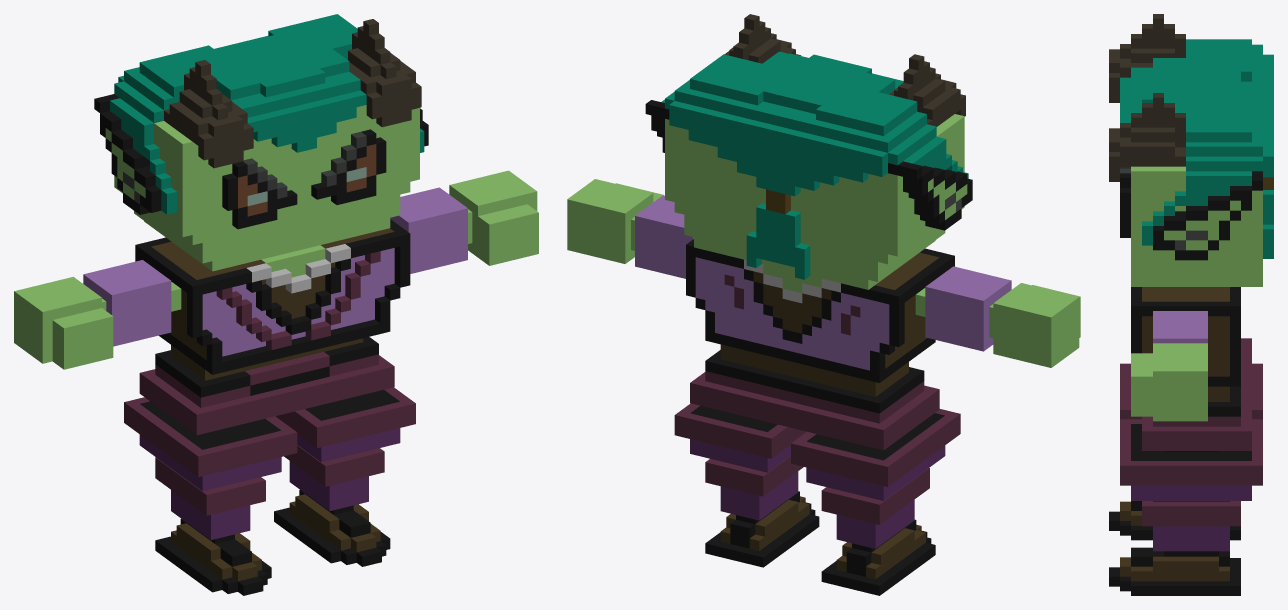
Rendered from ddEnemigoDuende.obj.
3 views of the same model, side by side, from view 1: azimuth 30°, elevation 25°; view 2: azimuth 150°, elevation 25°; view 3: azimuth 270°, elevation 25° (orthographic). The views are drawn at different scales.
Bounding box in the file's own units: 5 × 5 × 1.5.
